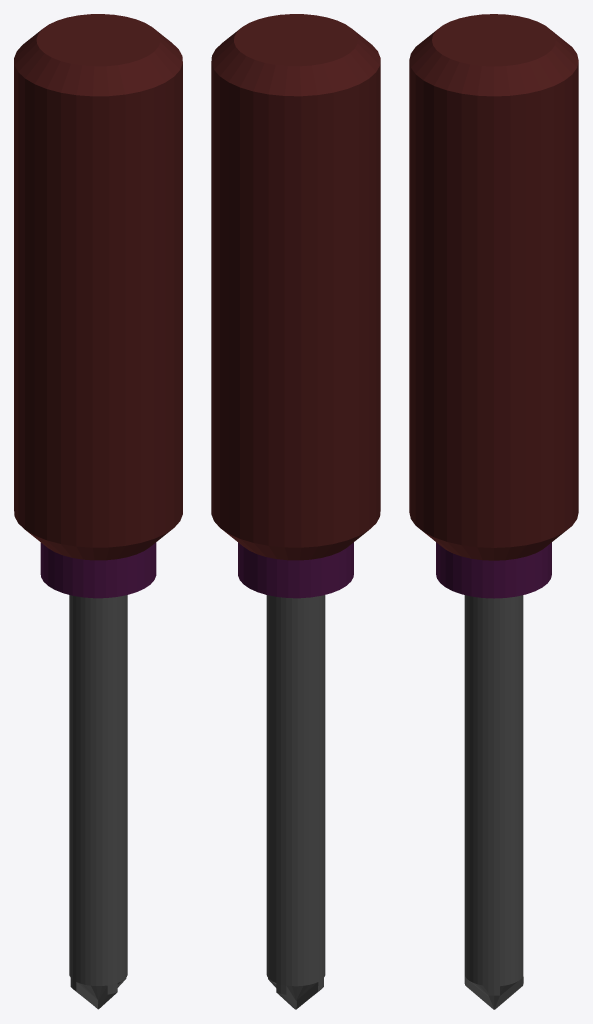
The model's file is obeng plus.fbx.
3 renders of one model, left to right at view 1: azimuth 30°, elevation 25°; view 2: azimuth 150°, elevation 25°; view 3: azimuth 270°, elevation 25°, orthographic.
Visible parts, largest first — view 1: obengPlus; view 2: obengPlus; view 3: obengPlus.
Boxes of the visible parts, x1,y1,x2,y2 form: obengPlus: (14, 14, 182, 1009); obengPlus: (211, 14, 380, 1009); obengPlus: (409, 14, 578, 1009).
Size of the model in its own units: 2.76 by 17.44 by 2.76.
